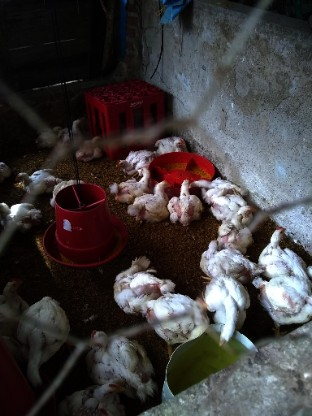Pollos: (70, 320, 153, 395), (23, 292, 71, 389), (146, 290, 216, 355), (254, 274, 312, 341), (202, 266, 248, 344), (259, 224, 311, 280), (56, 381, 126, 416), (103, 256, 155, 303), (194, 241, 259, 277), (129, 180, 175, 229), (0, 273, 33, 338), (168, 174, 204, 225), (0, 200, 41, 236), (14, 164, 58, 195), (105, 171, 152, 199), (210, 212, 252, 241), (110, 145, 154, 171), (148, 130, 190, 157), (210, 190, 255, 214), (60, 116, 88, 151), (29, 118, 61, 147), (190, 175, 242, 192), (76, 129, 102, 160), (0, 157, 11, 186)
